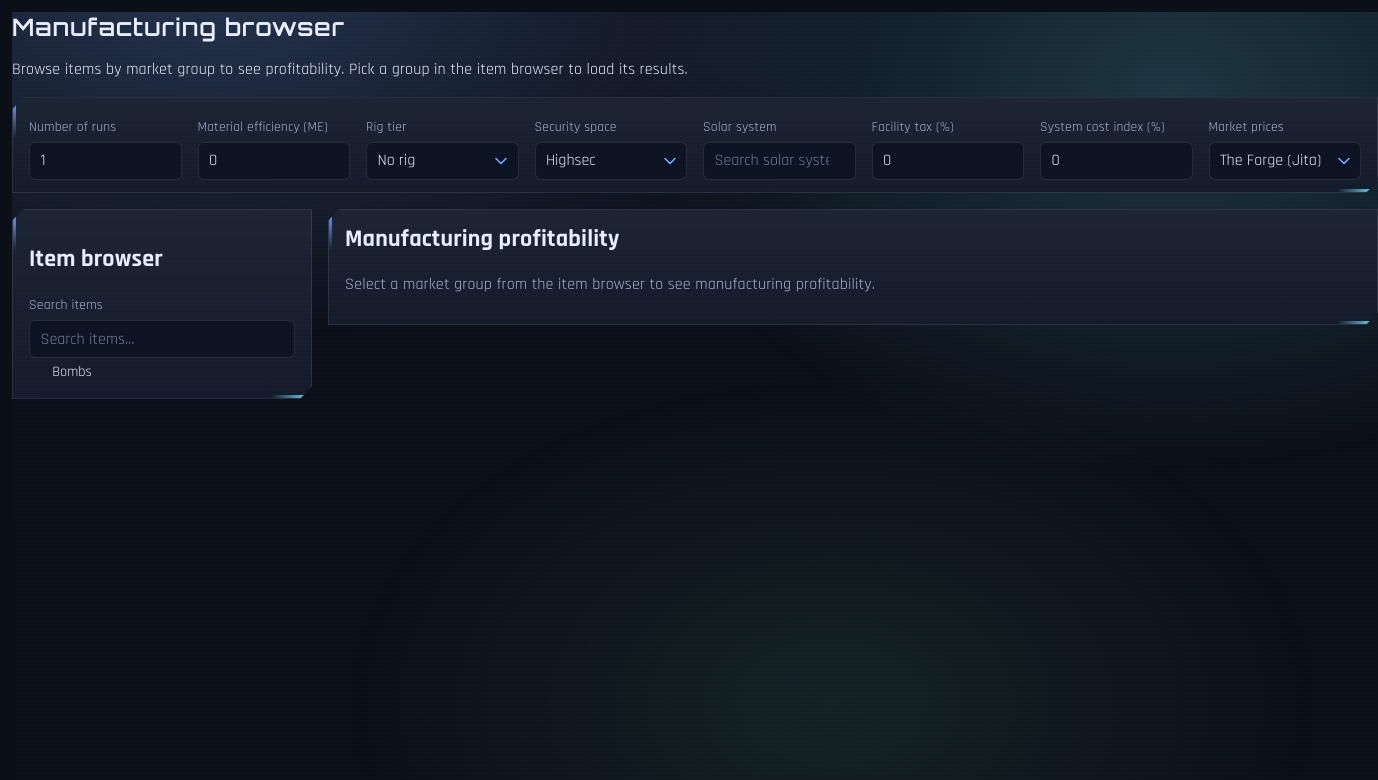
Test case: ManufacturingBrowser › asks for a group first, then lists its items best profit first
Check: the text "Select a market group" is shown, box [345,274,875,295]
Click the button "Bombs" at (63, 372), box [29,358,96,386]
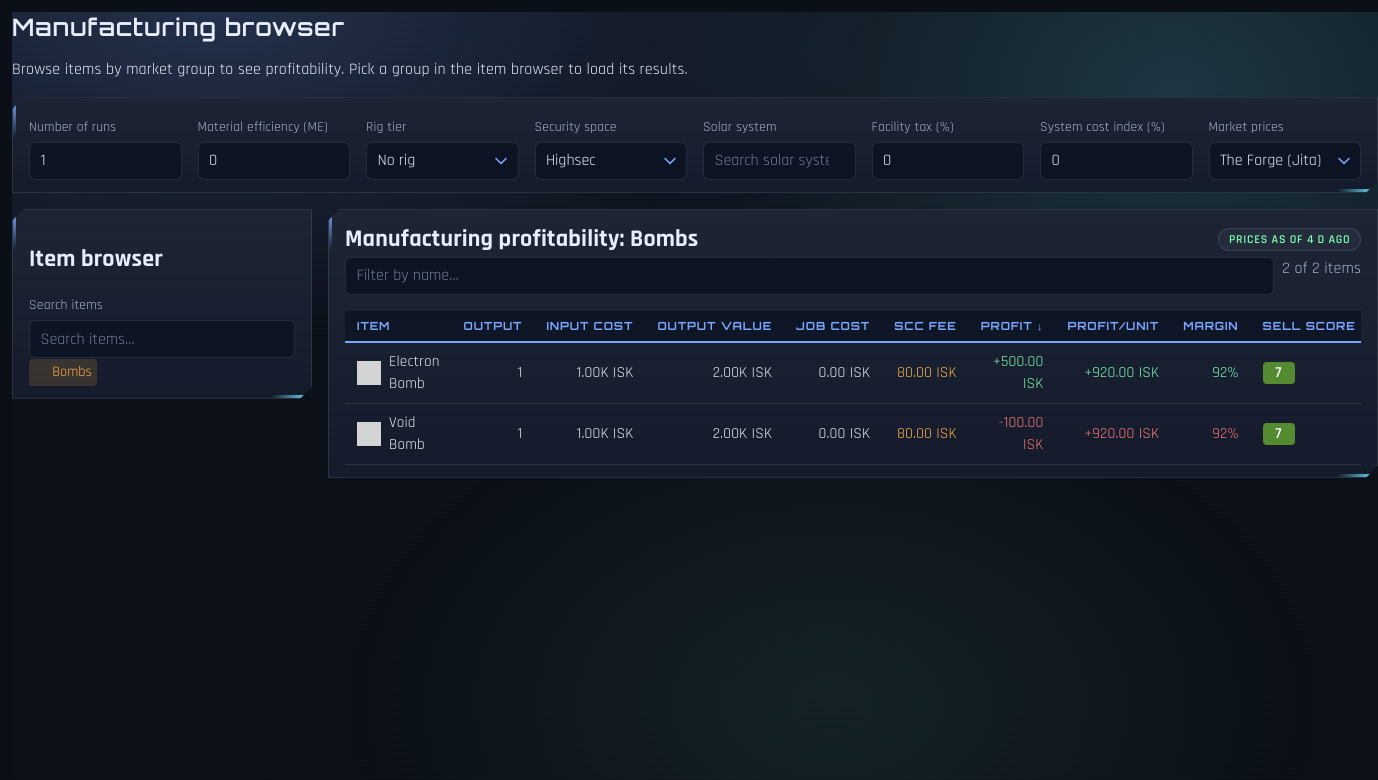
Check: the heading "Manufacturing profitability: Bombs" is shown, box [345,222,698,257]
